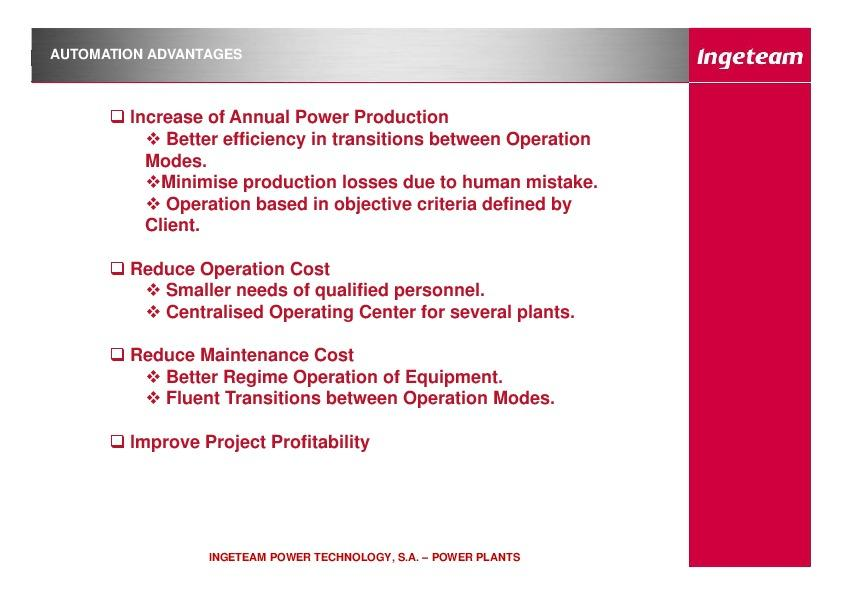paragraph: (82, 89, 672, 464)
subtitle: (200, 539, 542, 577)
title: (45, 37, 808, 74)
